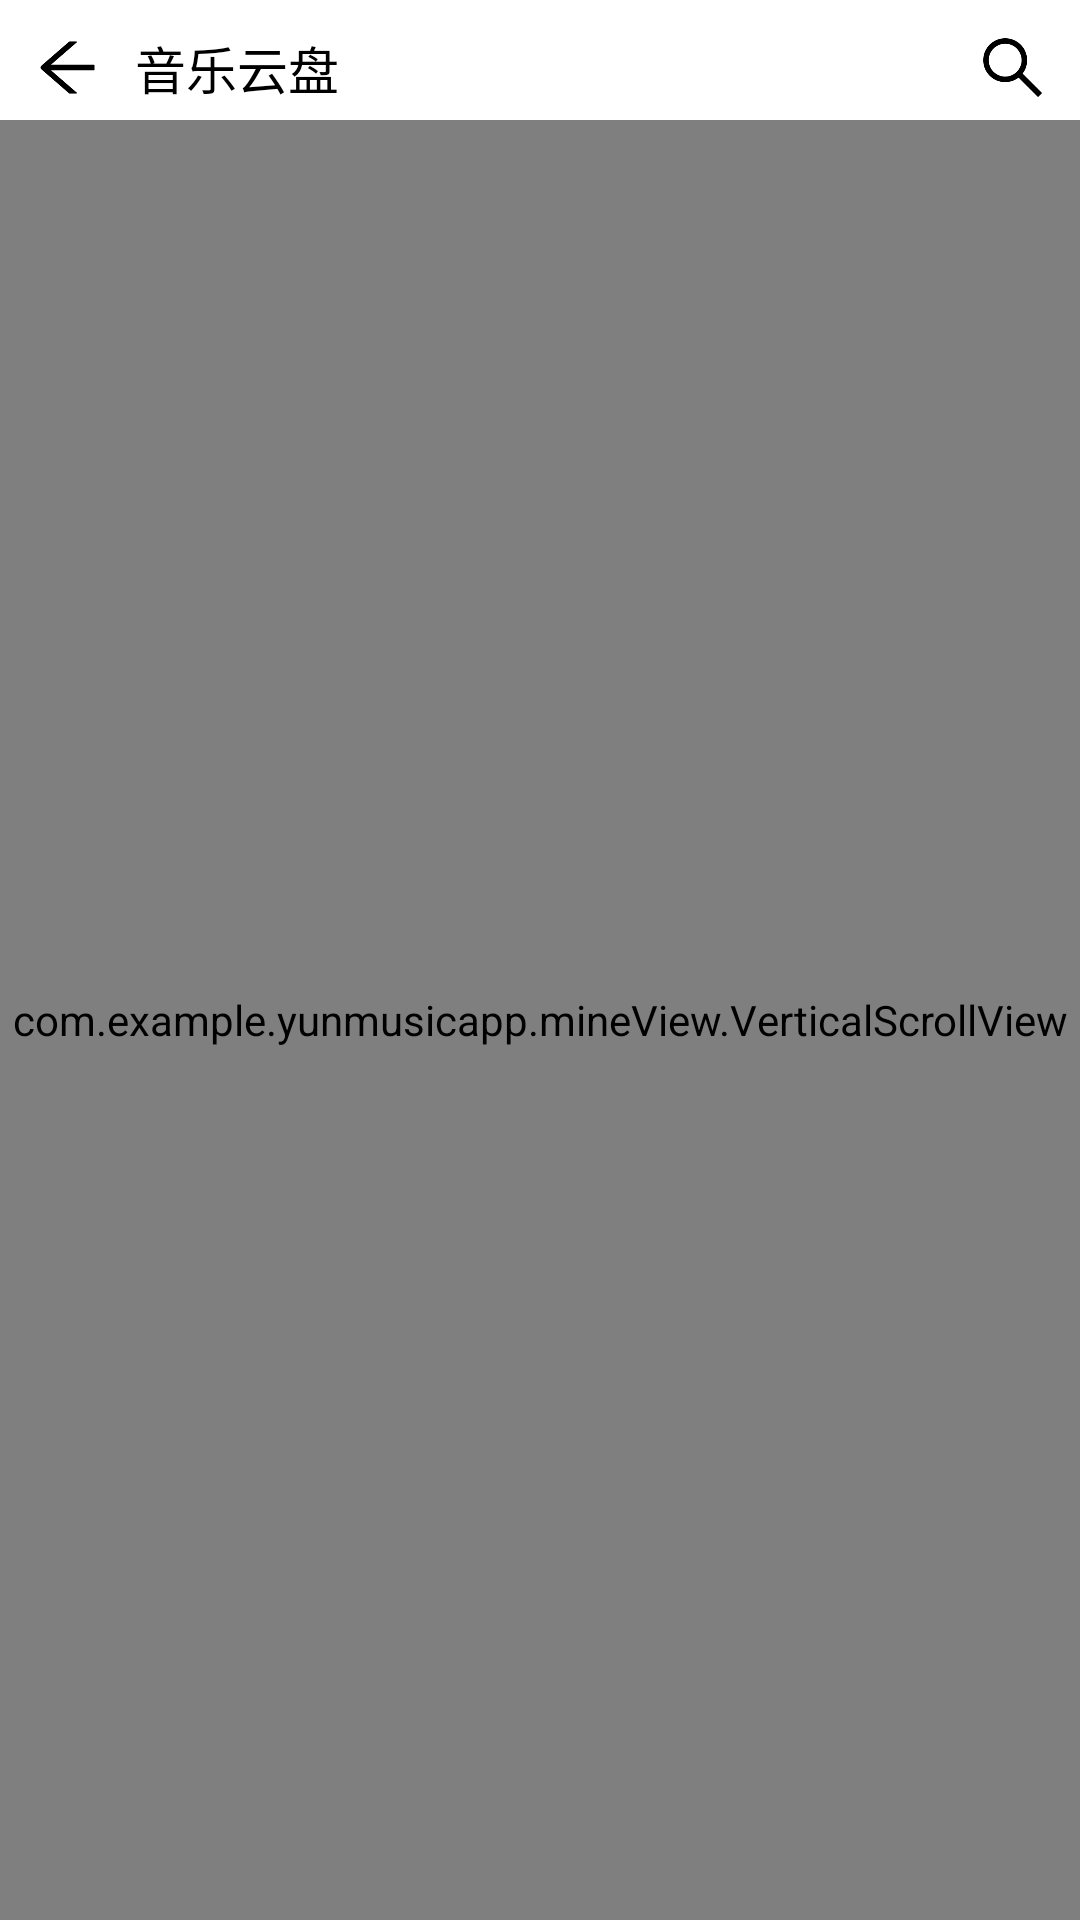

Point at icon controls on the screen. Image size 1080px×1920px, points as point (x, y).
search: point (1012, 67)
userinfo back: point (67, 67)
